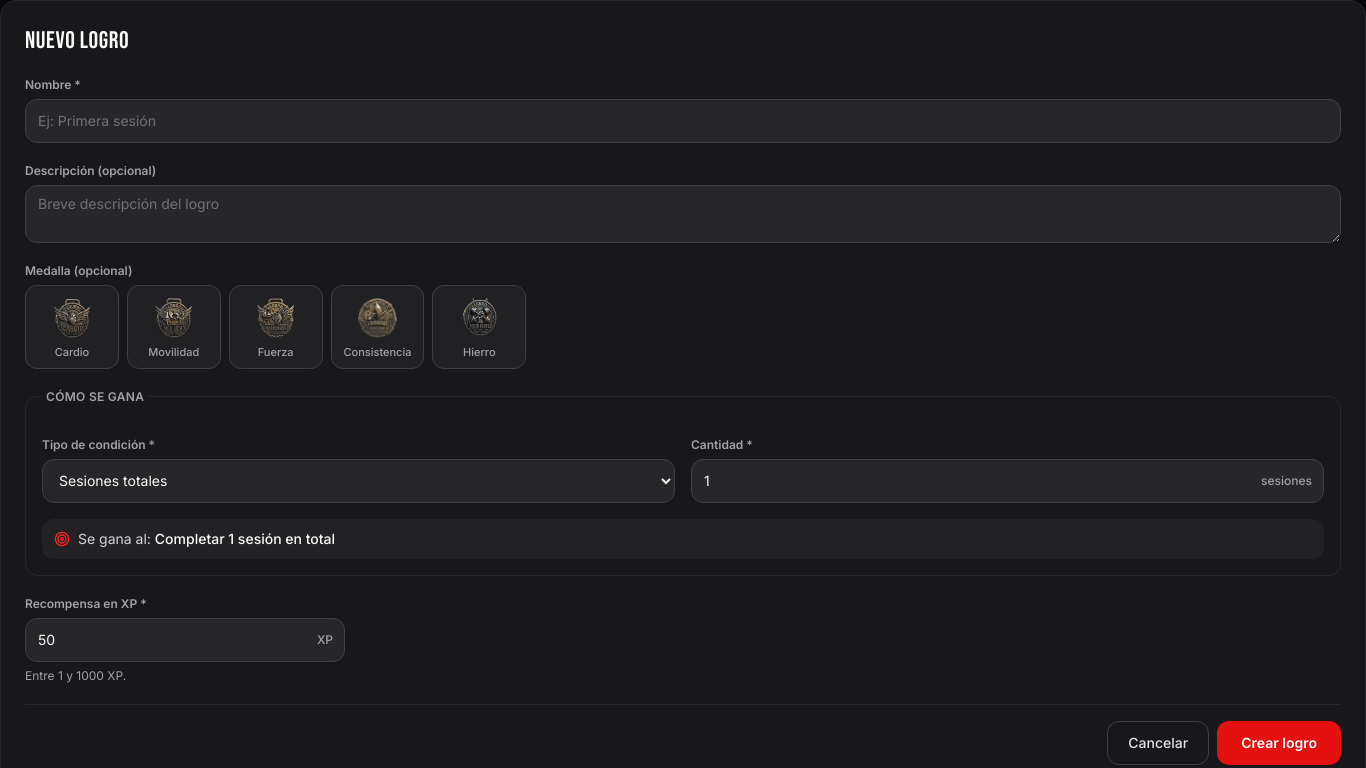
Test case: AchievementForm › validation messages › shows the message the server action returns
The image size is (1366, 768).
Type "Logro" into the field labelled "Nombre *" at [683, 121], box [25,99,1341,143]
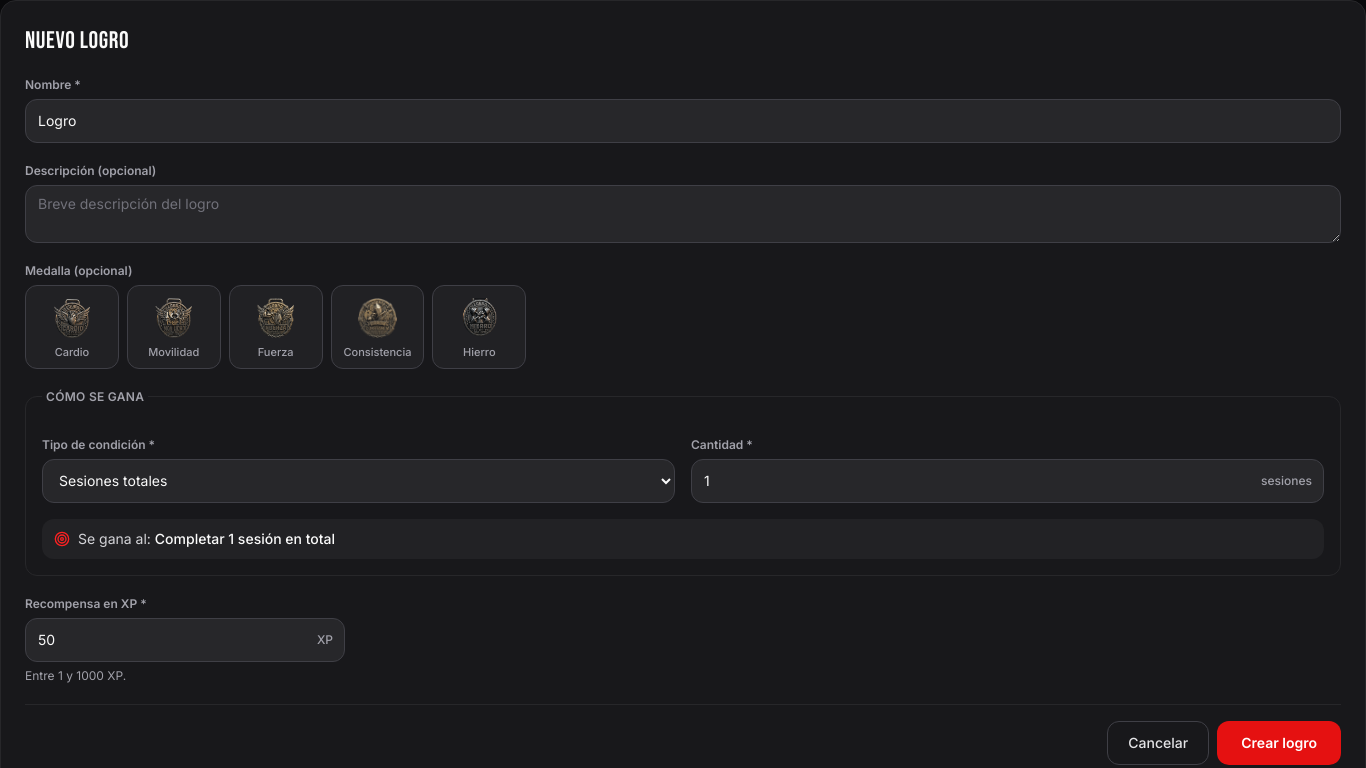
Click the button "Crear logro" at [1279, 743], box [1217,721,1341,765]
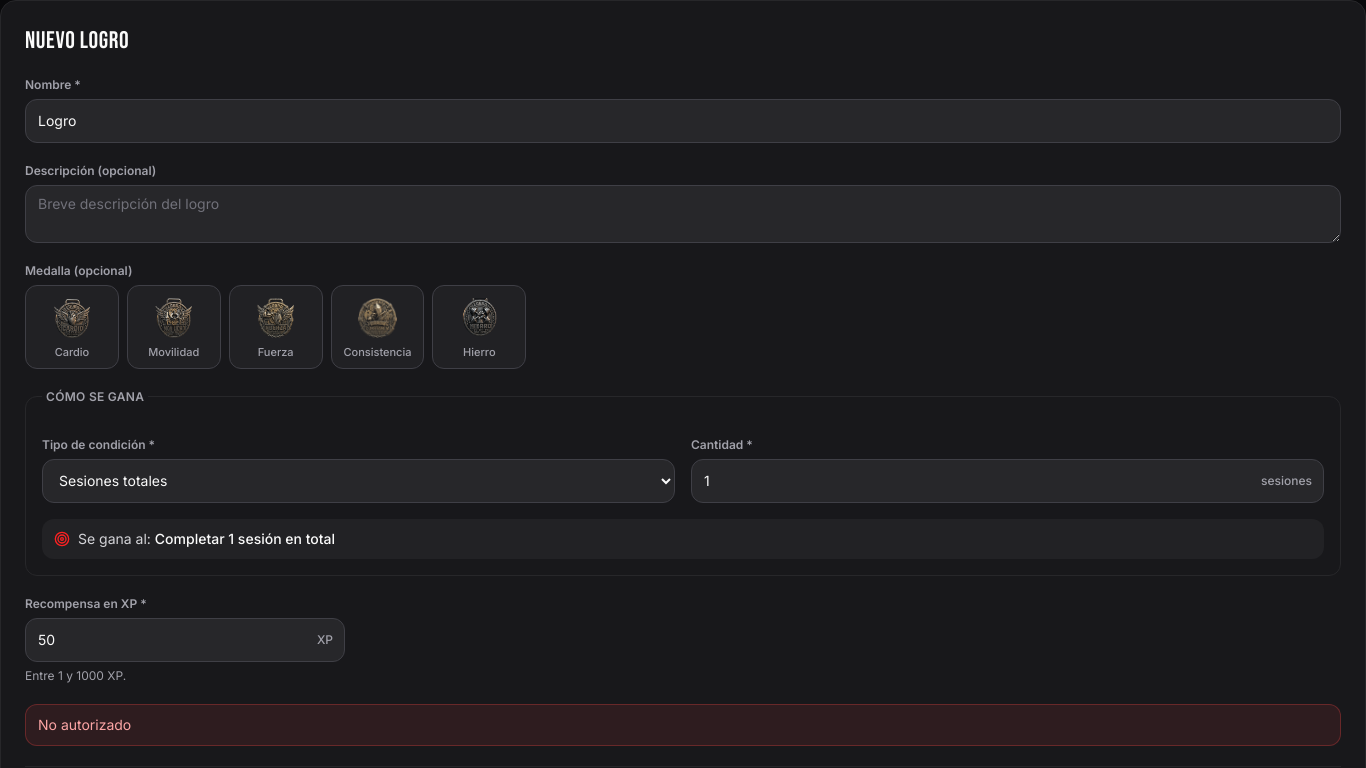
Expected: the message reads "No autorizado", [38,716,131,733]
